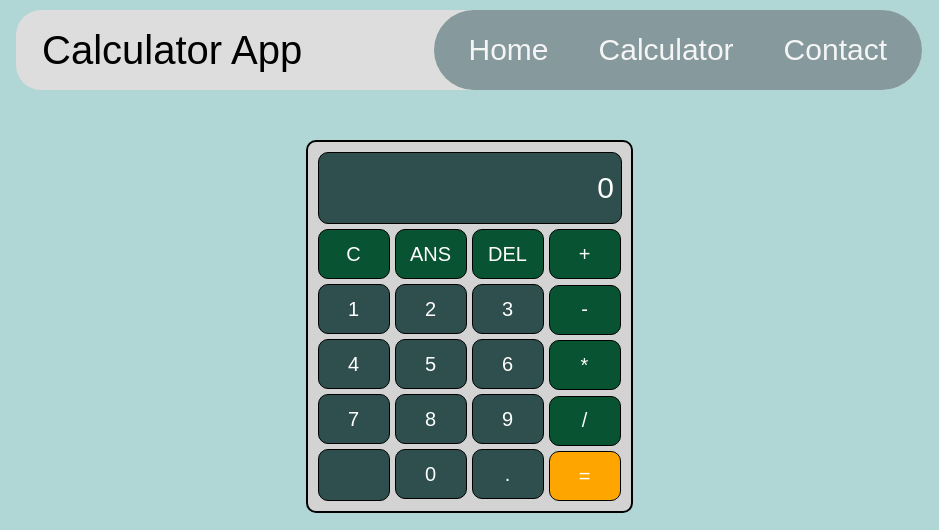
Test case: Calculator Tests › C button clears text
Check: the text with id "current" reads "0", box [597,171,614,205]
Click the button "2": (431, 309) [395,284,467,334]
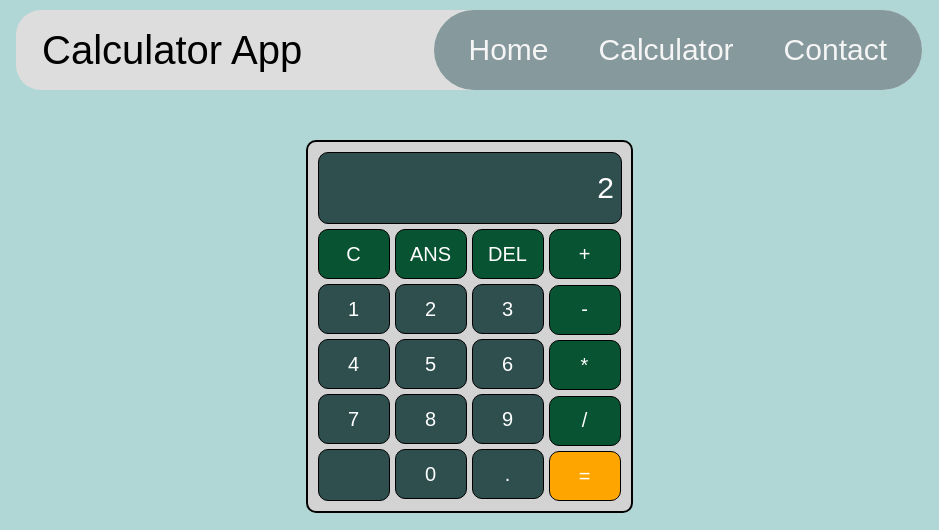
Check: the text with id "current" reads "2", box [597,171,614,205]
Click the button "C": (354, 254) [318,229,390,279]
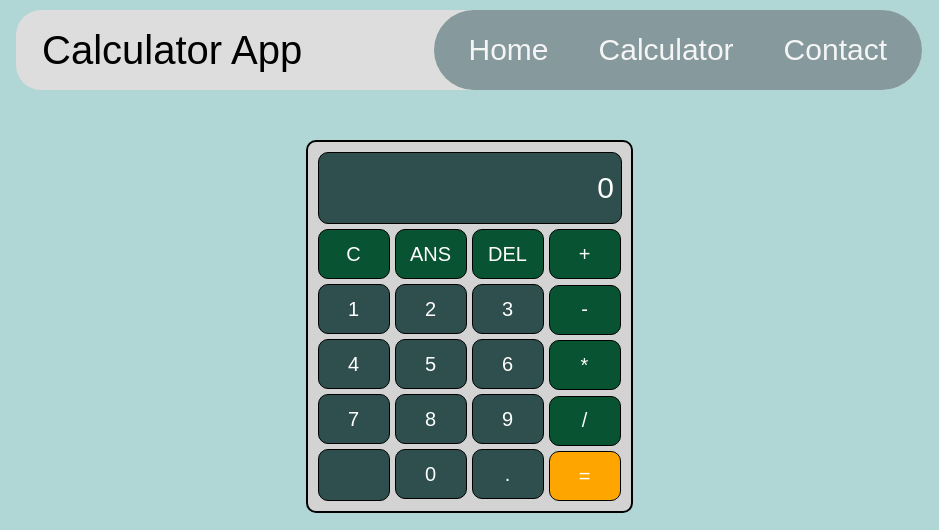
Check: the text with id "current" reads "0", box [597,171,614,205]
